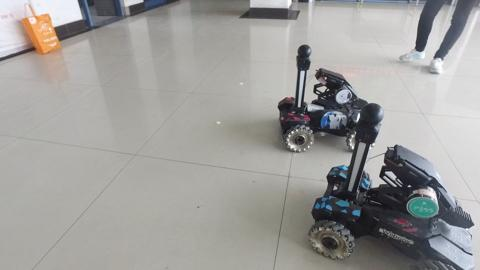bag: (17, 1, 68, 52)
chariot: (294, 101, 478, 270), (273, 41, 386, 156)
